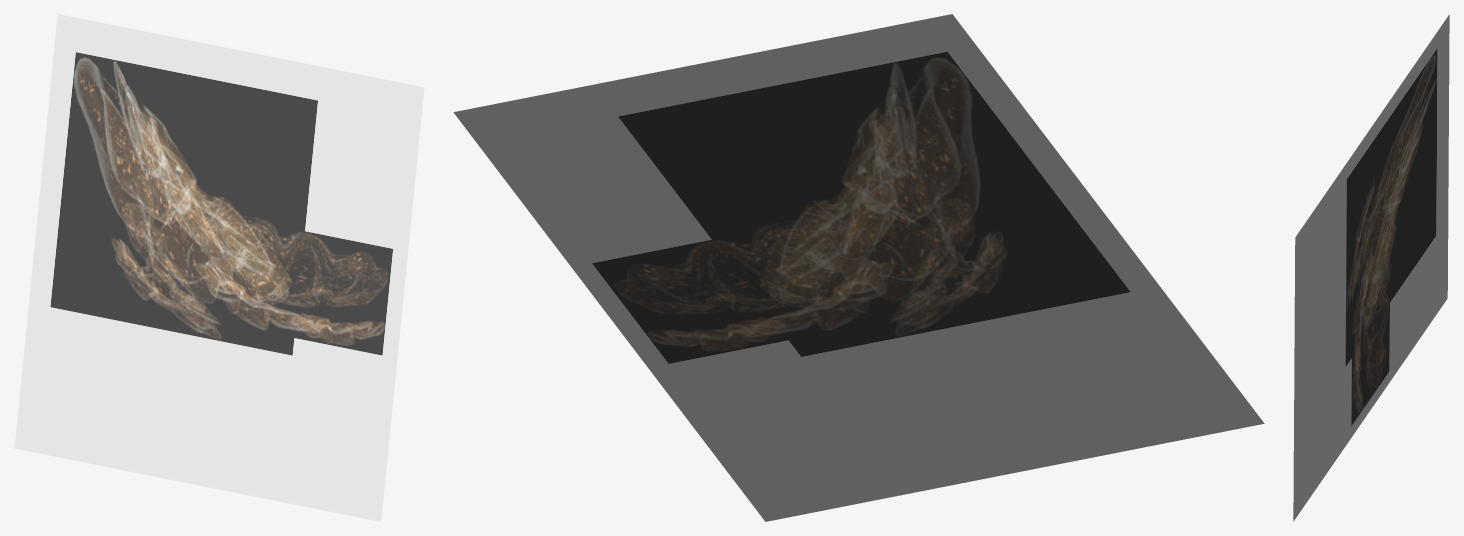
The model's file is ER_sprite.fbx.
3 renders of one model, left to right at view 1: azimuth 30°, elevation 25°; view 2: azimuth 150°, elevation 25°; view 3: azimuth 270°, elevation 25°, orthographic. The views are drawn at different scales.
Parts seen in each view (by area): view 1: ER; view 2: ER; view 3: ER.
Part boxes in pixels (x1,y1,x2,y2): ER: (14,14,424,521); ER: (453,14,1264,521); ER: (1293,14,1449,521).
Size of the model in its own units: 55255 by 52191 by 17844.
1 material, 1 textured.
